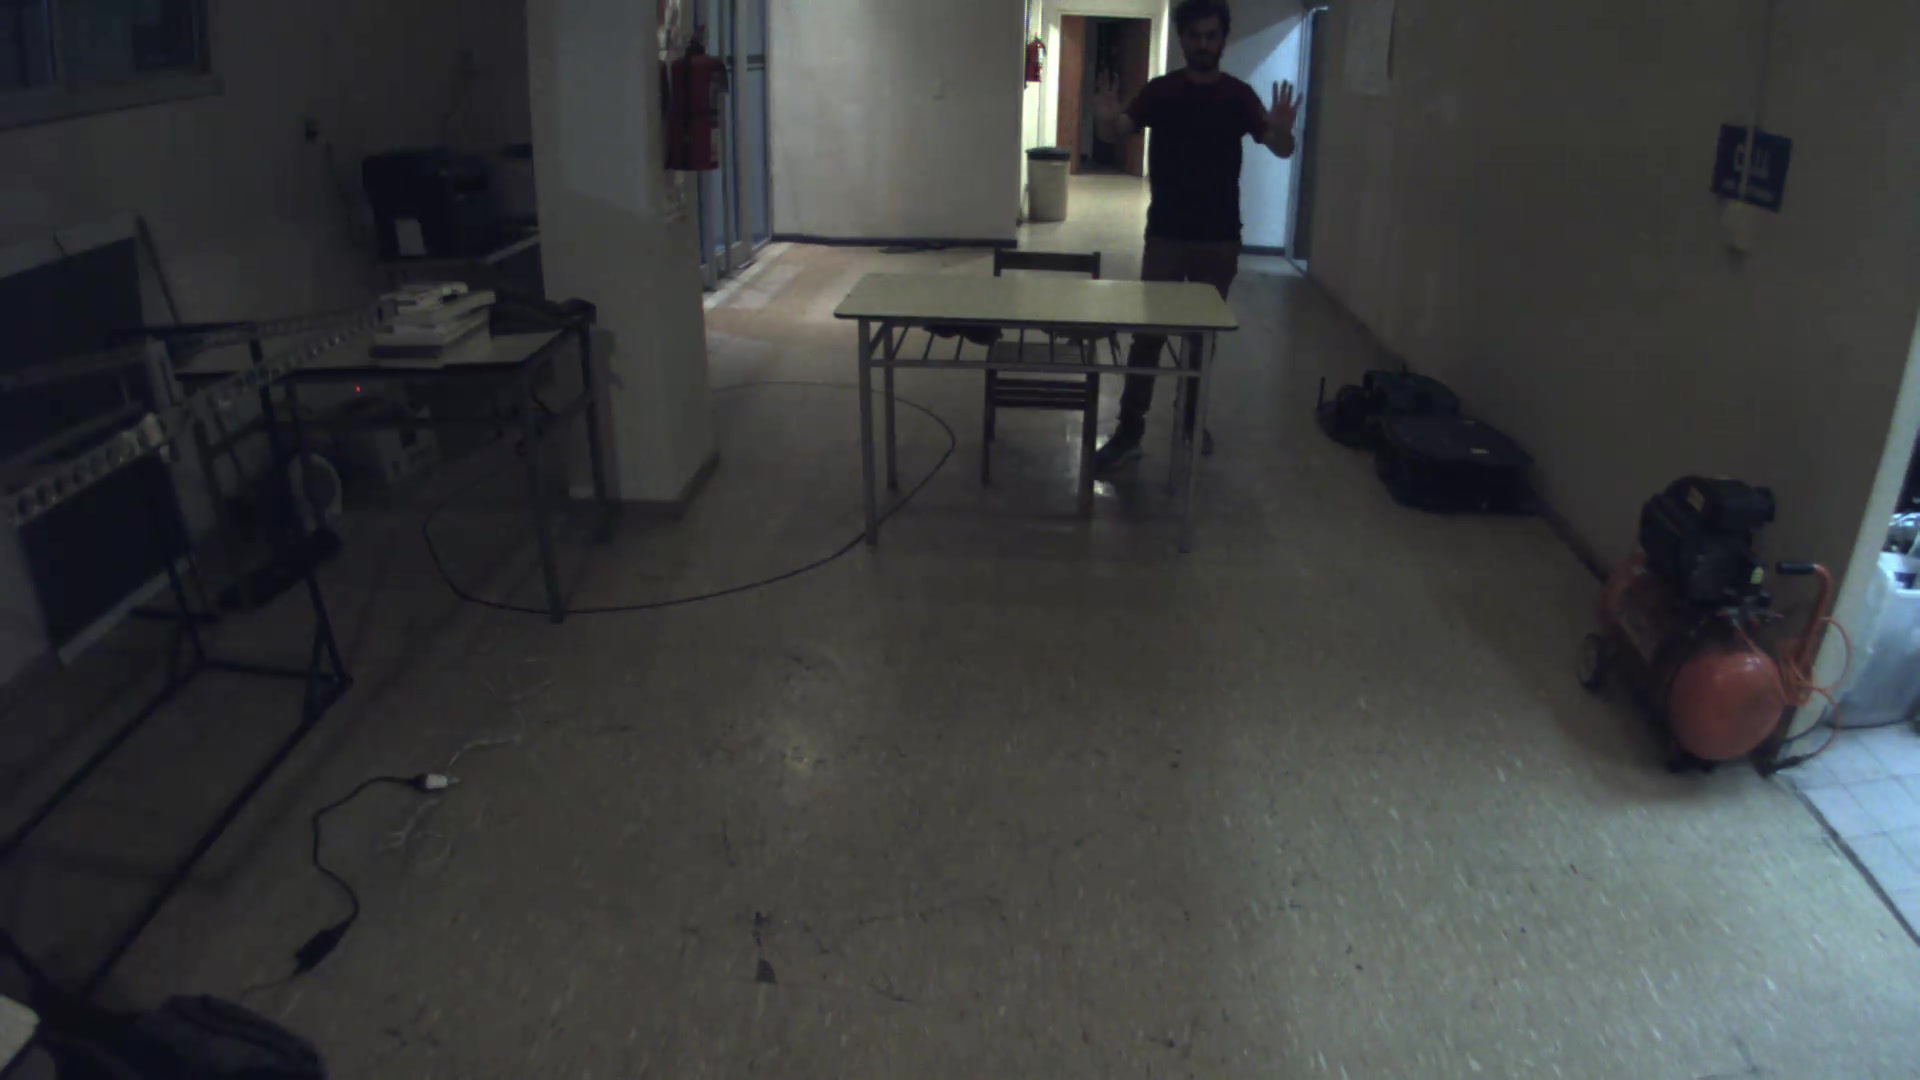hand: (1251, 73, 1313, 131), (1084, 61, 1146, 117)
